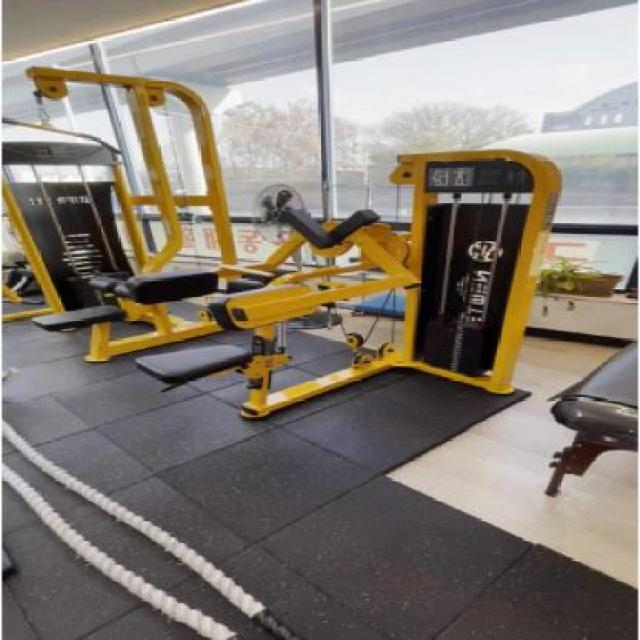lateral raises machine: (126, 208, 557, 422)
